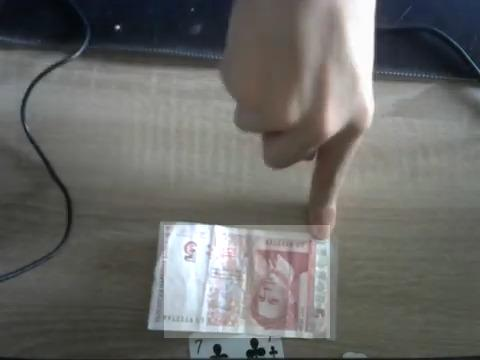5leva: (164, 225, 330, 338)
